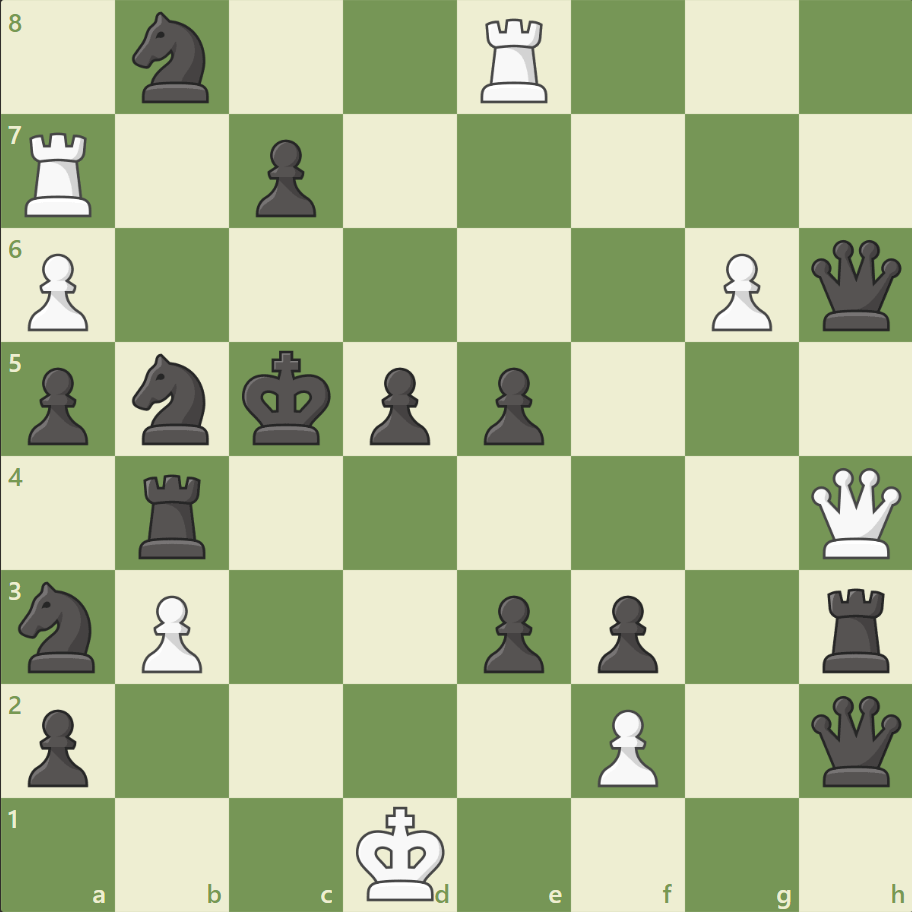K: (351, 798, 451, 906)
P: (20, 246, 95, 337), (701, 246, 776, 337), (133, 586, 208, 677), (588, 700, 662, 791)
Q: (805, 463, 904, 562)
R: (473, 12, 556, 109), (19, 125, 102, 222)
k: (238, 344, 338, 452)
n: (124, 7, 222, 110), (124, 348, 222, 450), (11, 575, 108, 677)
p: (247, 132, 322, 223), (20, 359, 95, 450), (474, 359, 549, 450), (474, 586, 549, 677), (20, 700, 95, 791), (361, 359, 435, 450), (588, 586, 662, 677)
q: (805, 236, 904, 335), (805, 690, 904, 789)
r: (814, 579, 897, 676), (133, 466, 215, 563)
